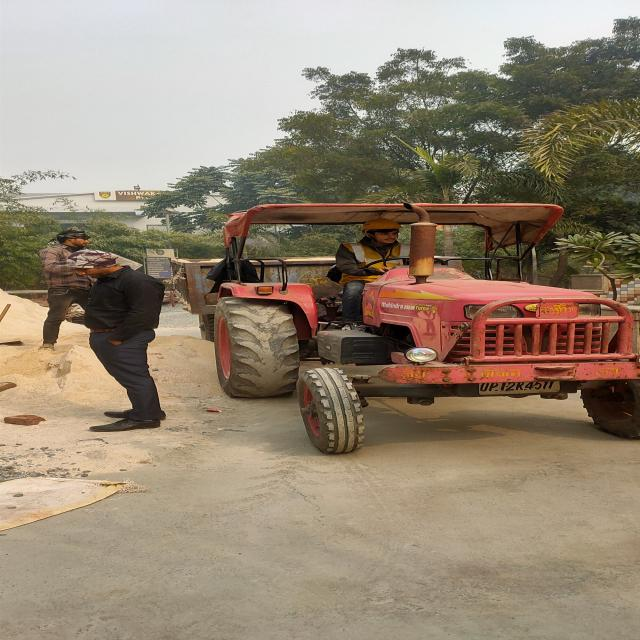safe: (336, 218, 414, 278)
unsafe: (66, 250, 166, 431), (40, 230, 84, 349)
